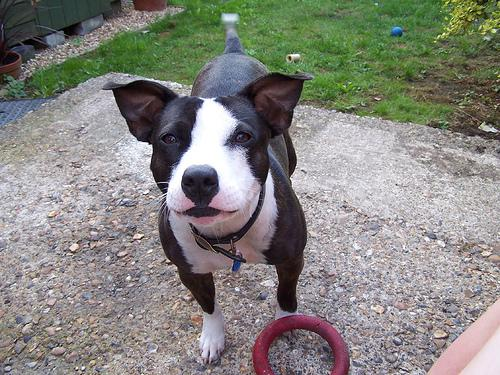dog: (100, 70, 312, 225)
